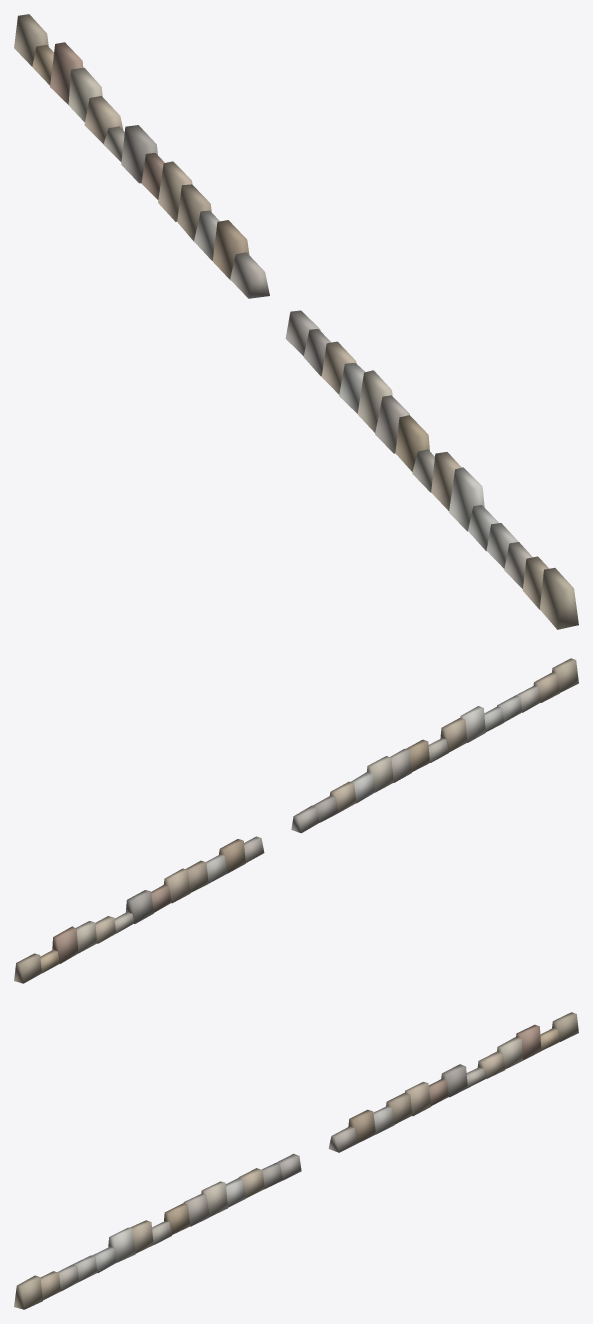
File: farm_18_15_far.glb
3 renders of one model, top to bottom at view 1: azimuth 30°, elevation 25°; view 2: azimuth 150°, elevation 25°; view 3: azimuth 330°, elevation 25°, orthographic. The views are drawn at different scales.
Visible parts, largest first — view 1: geometry_0; view 2: geometry_0; view 3: geometry_0.
Boxes of the visible parts, bbox=[...] form: geometry_0: bbox=[14, 14, 578, 629]; geometry_0: bbox=[14, 658, 578, 983]; geometry_0: bbox=[14, 1012, 578, 1309].
Bounding box in the file's own units: 8.24 × 2.1 × 47.48.
